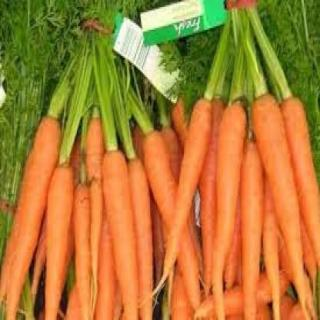Wortel: (250, 95, 311, 319), (3, 114, 63, 320), (163, 97, 221, 283), (212, 102, 248, 319), (98, 150, 140, 319), (44, 164, 78, 320)
